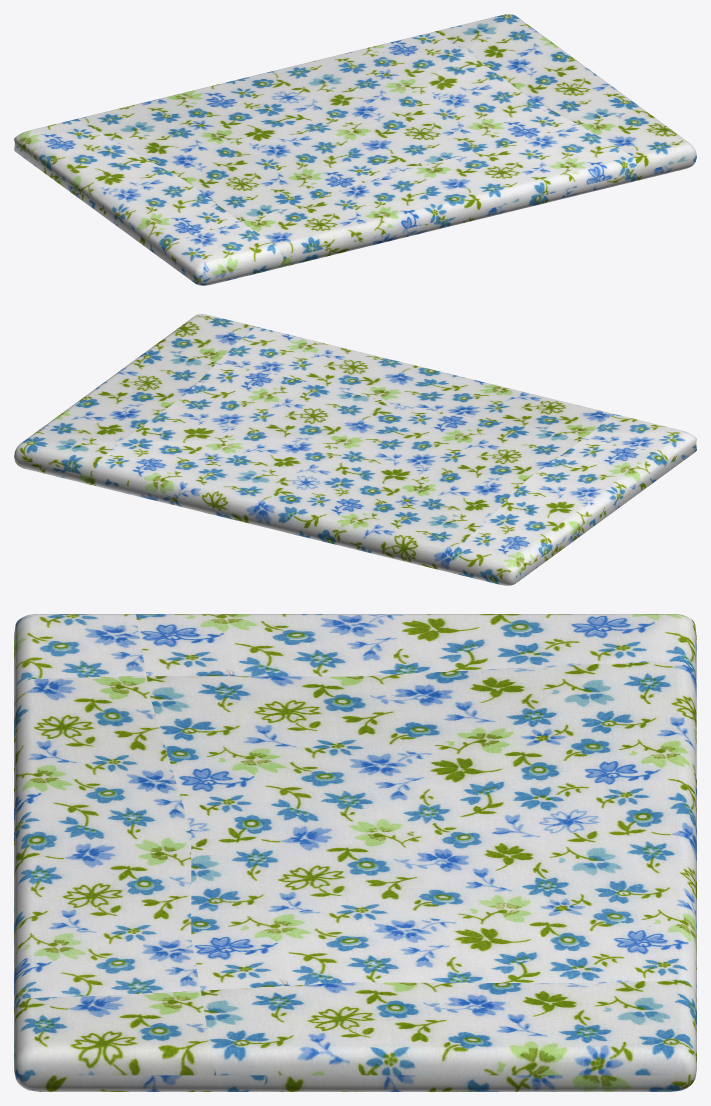
Rendered from mattress_flat.glb.
3 views of the same model, one above another, from view 1: azimuth 30°, elevation 25°; view 2: azimuth 150°, elevation 25°; view 3: azimuth 270°, elevation 25° (orthographic). The views are drawn at different scales.
Parts seen in each view (by area): view 1: MattressFlat; view 2: MattressFlat; view 3: MattressFlat.
Part boxes in pixels (x1,y1,x2,y2): MattressFlat: [14, 14, 696, 285]; MattressFlat: [14, 314, 696, 585]; MattressFlat: [14, 614, 696, 1091].
Bounding box in the file's own units: 2.54 × 0.1183 × 1.64.
Materials: 1 (1 with a texture image).
